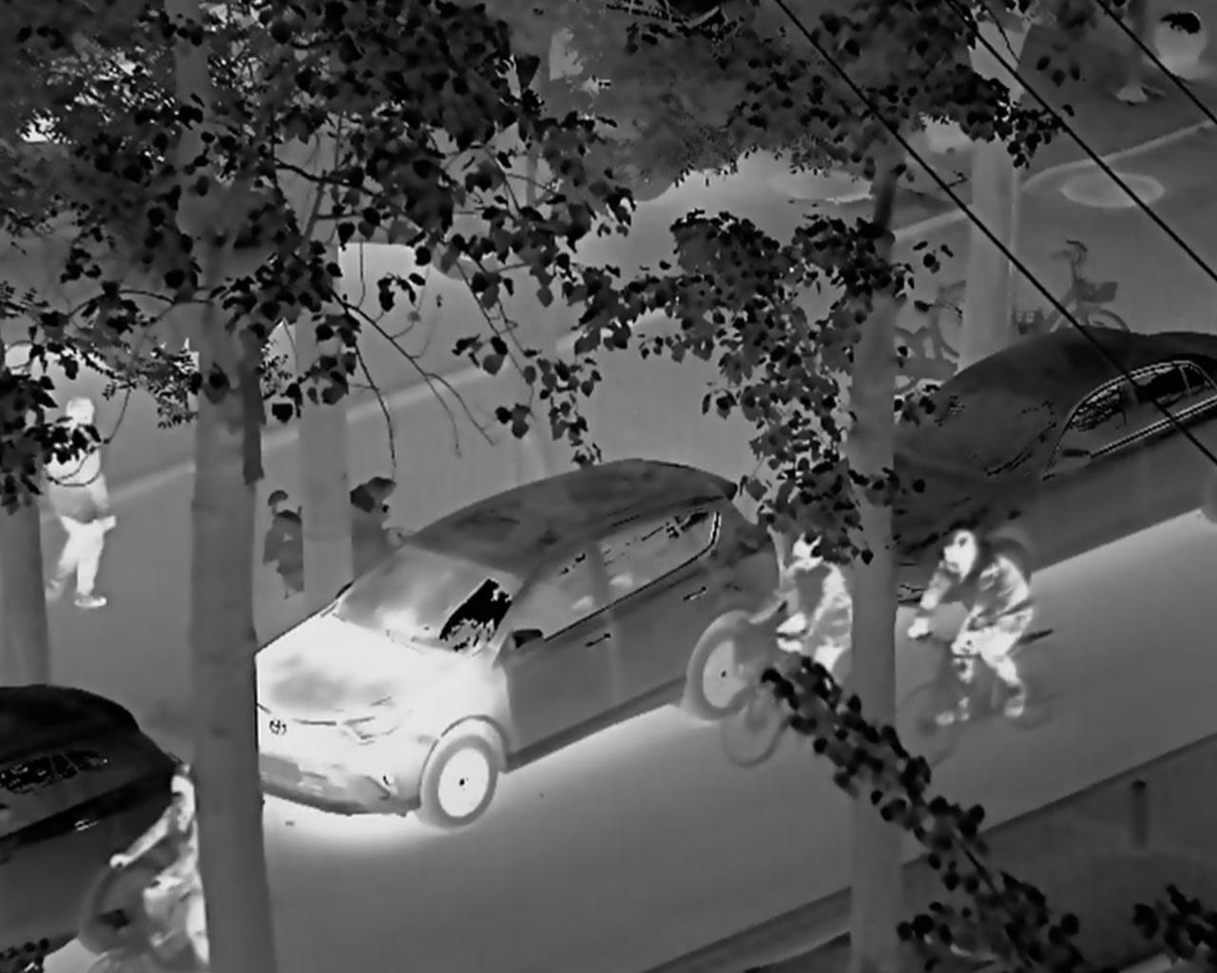person: (918, 498, 1049, 749), (29, 385, 142, 620), (122, 746, 230, 965), (759, 508, 855, 727)
